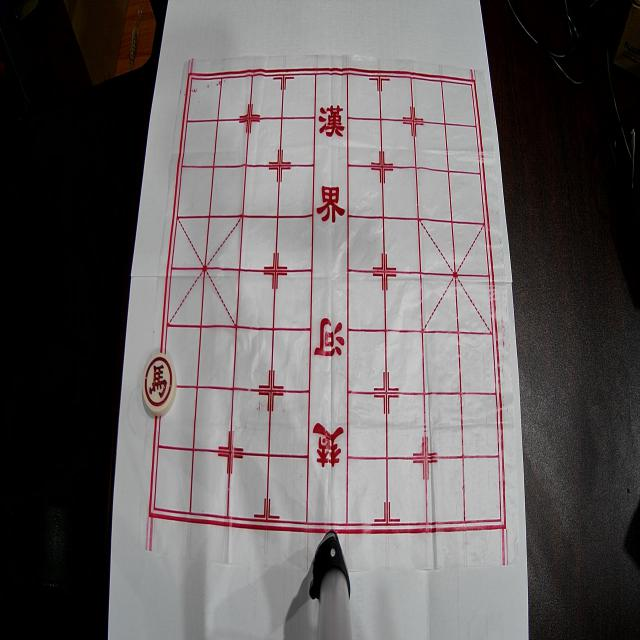red-horse: (142, 353, 176, 416)
